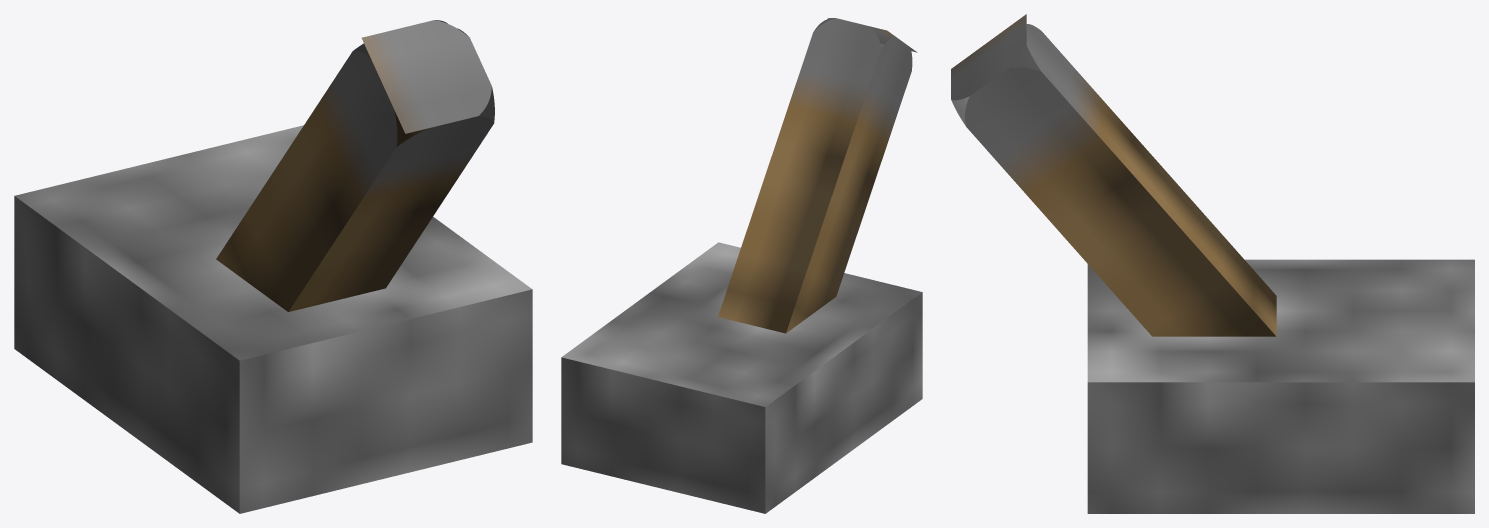
The model's file is SwitchModel.fbx.
The picture shows the model from 3 angles, left to right: view 1: azimuth 30°, elevation 25°; view 2: azimuth 150°, elevation 25°; view 3: azimuth 270°, elevation 25°; orthographic projection. The views are drawn at different scales.
Parts seen in each view (by area): view 1: Base, Handle; view 2: Base, Handle; view 3: Base, Handle.
Part boxes in pixels (x1,y1,x2,y2): Base: (14, 125, 532, 513); Handle: (216, 20, 494, 311); Base: (561, 242, 922, 513); Handle: (718, 18, 917, 333); Base: (1087, 259, 1474, 513); Handle: (951, 14, 1276, 336).
Bounding box in the file's own units: 0.1875 × 0.2945 × 0.3381.
2 materials, 2 textured.
